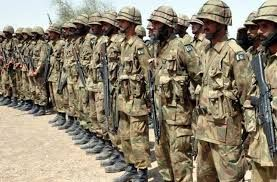gun: (245, 46, 274, 152), (148, 59, 170, 144), (91, 38, 114, 117)
uniform: (194, 38, 246, 175), (144, 37, 194, 174), (236, 37, 274, 175), (117, 32, 153, 168), (93, 35, 121, 145), (70, 31, 94, 126), (47, 37, 69, 115), (28, 36, 51, 105), (58, 29, 75, 115), (11, 35, 29, 104), (1, 34, 18, 100), (19, 38, 33, 105)
